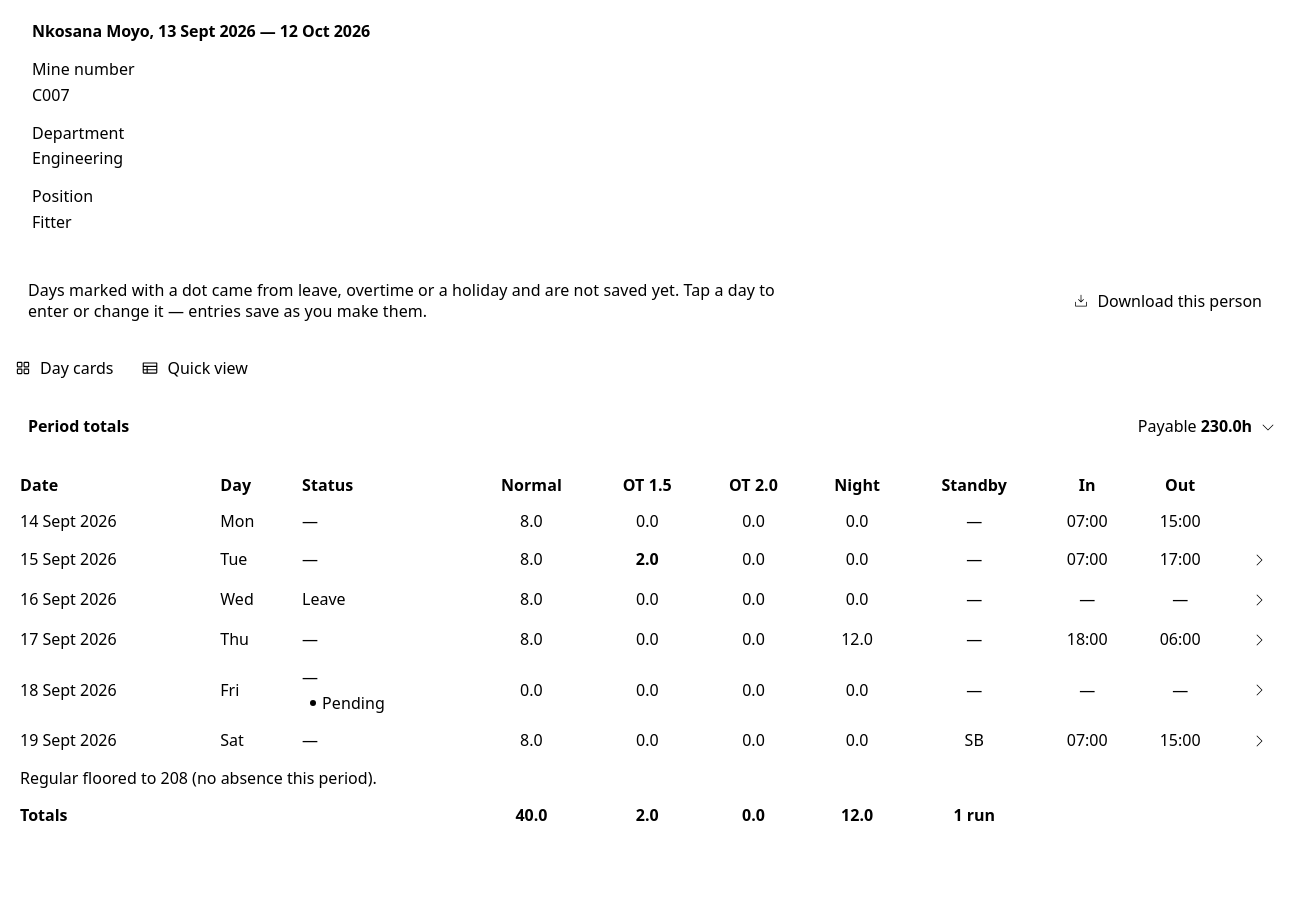
NecPersonView › breaks a day down to its overtime record, leave and holiday lines
The image size is (1292, 900).
Click the button named "Show the breakdown for 15 Sept 2026": (1259, 560) [1243,544,1275,576]
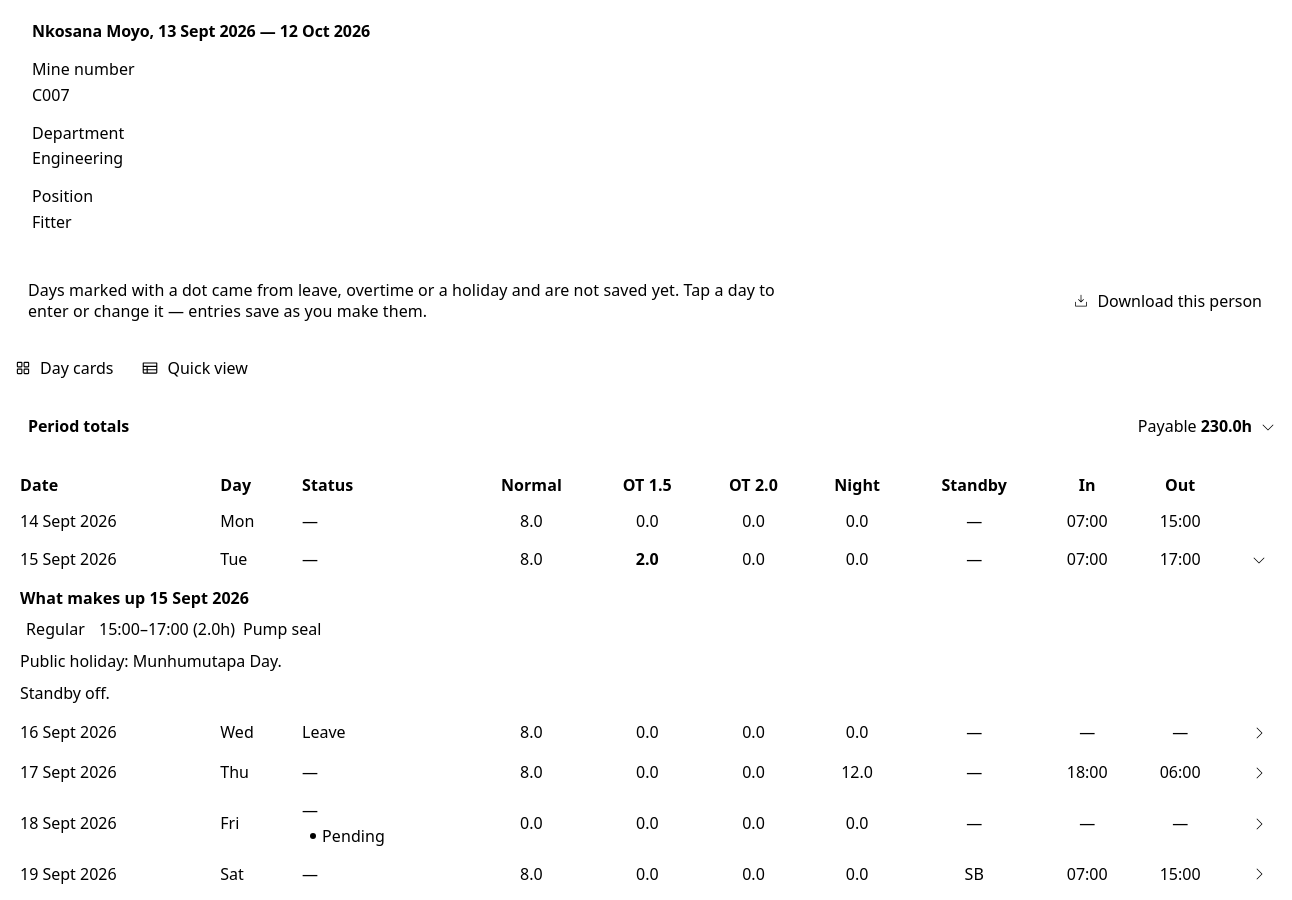
Check: the text "Pump seal" is shown, box [243,618,321,640]
Check: the text "15:00–17:00 (2.0h)" is shown, box [99,618,235,641]
Check: the text "Public holiday: Munhumutapa Day." is shown, box [20,650,282,672]
Click the button named "Show the breakdown for 16 Sept 2026": (1259, 733) [1243,717,1275,749]
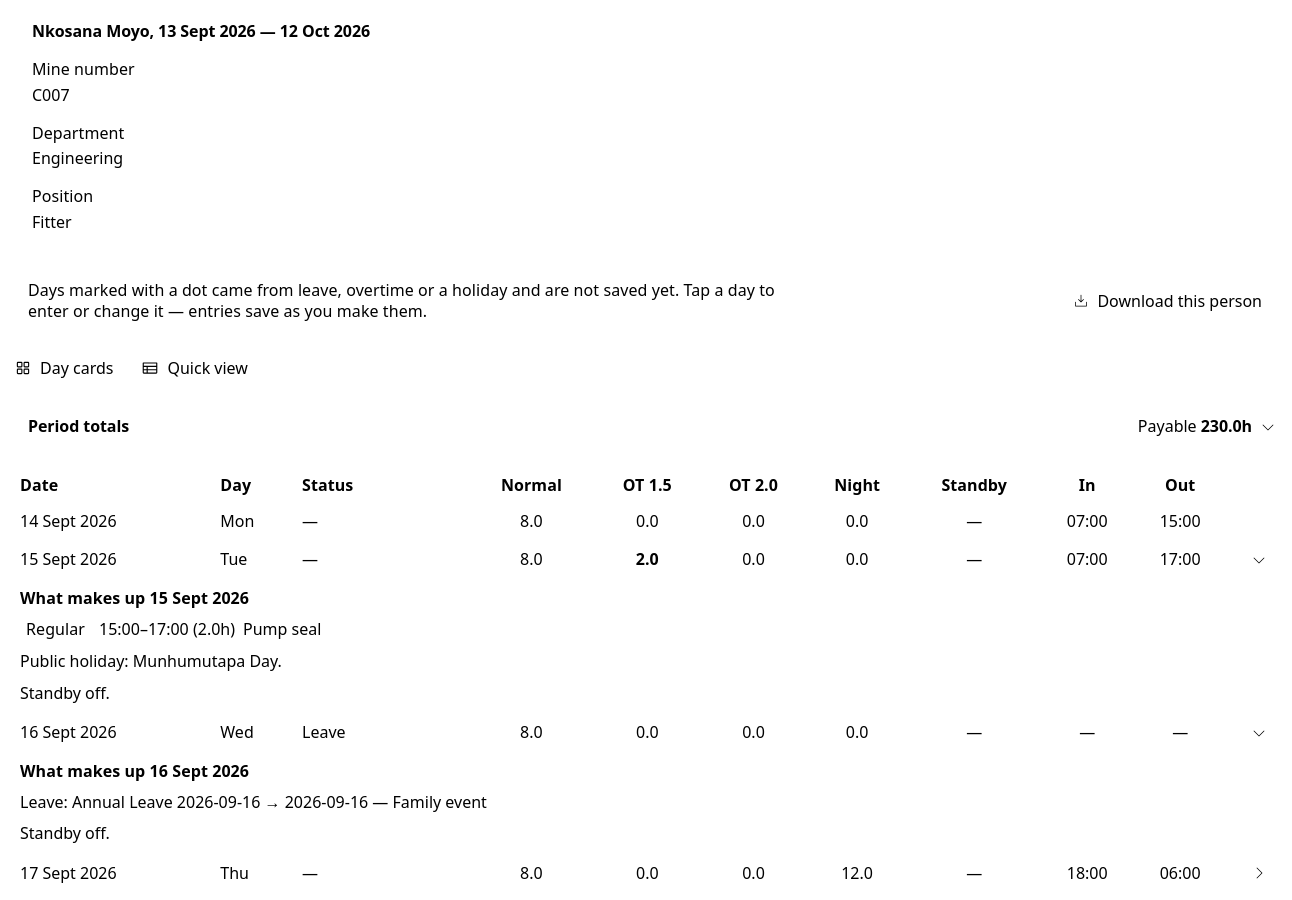
Check: the text "Leave: Annual Leave 2026-09-16 → 2026-09-16 — Family event" is shown, box [20,791,487,813]
